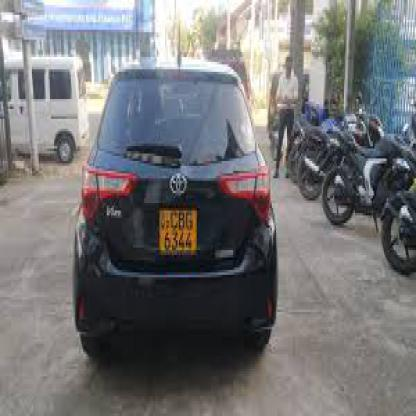car: (70, 64, 278, 359)
